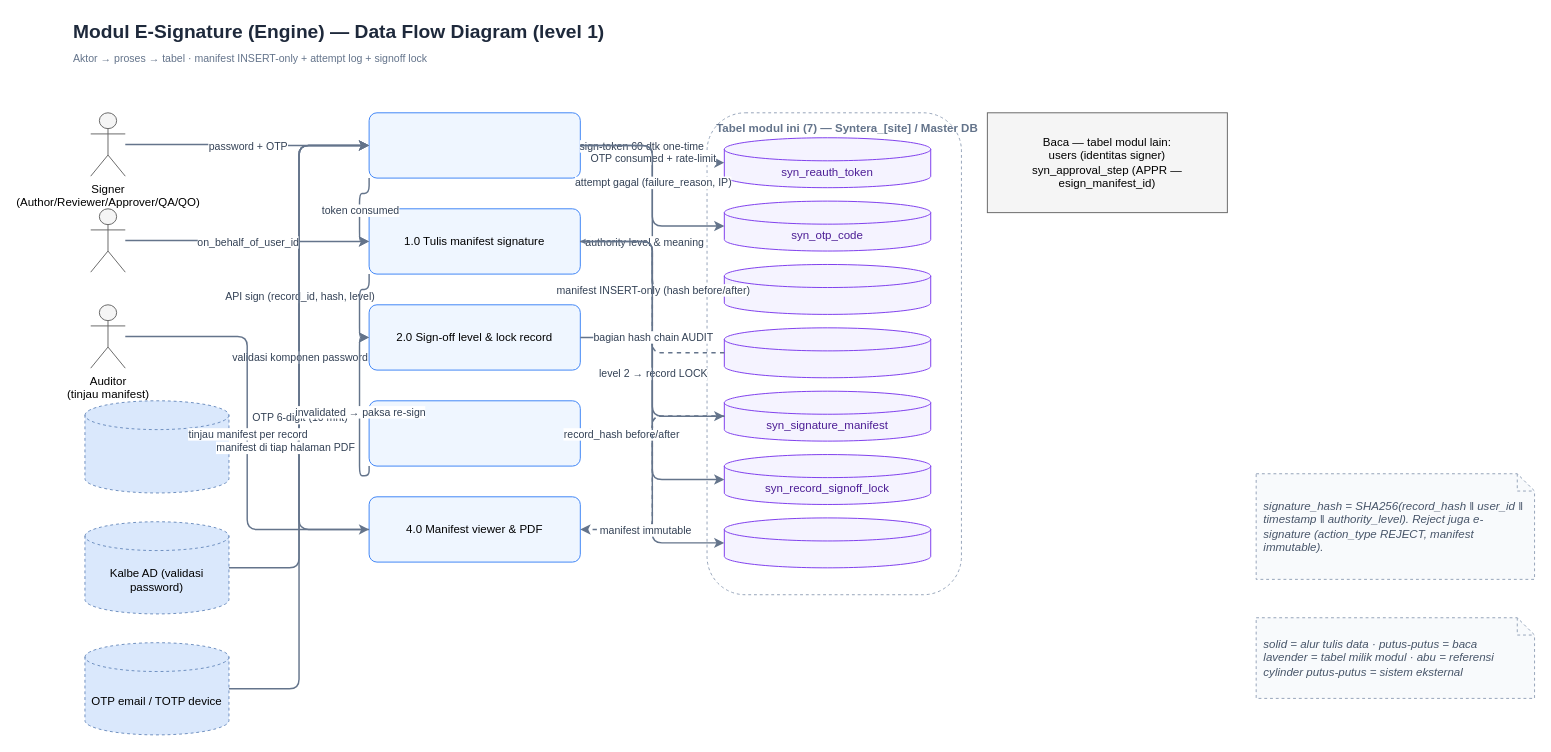
The diagram is 1551 pixels wide and 752 high, and some of its shapes have lost their labels. The centre of each missing label's shape, as x and y in pixels:
"0.0 Re-auth + sign-token" goes at point (474, 145).
"3.0 Delta-hash validation (runtime)" goes at point (474, 433).
"audit_logs" goes at point (827, 542).
"Delegate (on_behalf_of)" goes at point (107, 240).
"Modul pemanggil (APPR/CAL/WO/DOC/REP)" goes at point (156, 446).
"syn_authority_level" goes at point (827, 352).
"syn_signature_attempt_log" goes at point (827, 289).
